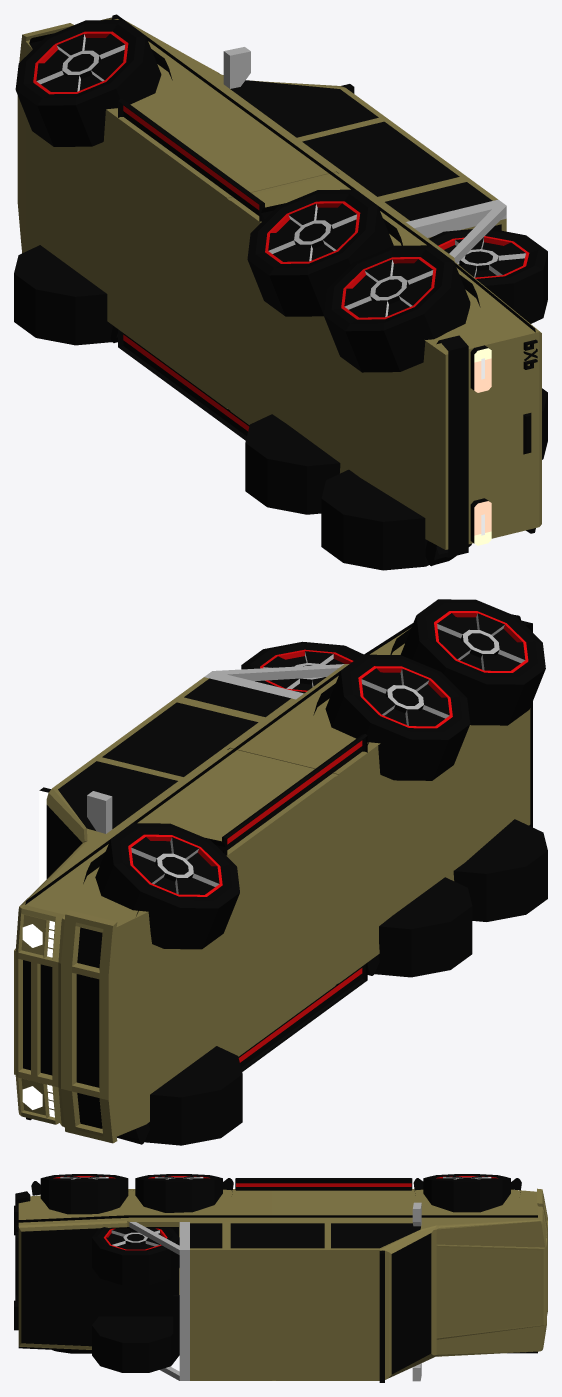
File: 6x6 knocked over.glb
The picture shows the model from 3 angles, top to bottom: view 1: azimuth 30°, elevation 25°; view 2: azimuth 150°, elevation 25°; view 3: azimuth 270°, elevation 25°; orthographic projection. The views are drawn at different scales.
Parts seen in each view (by area): view 1: Plane.025; view 2: Plane.025; view 3: Plane.025.
Boxes of the visible parts, <box> form: Plane.025: <box>14,14,547,570</box>; Plane.025: <box>14,599,547,1145</box>; Plane.025: <box>14,1174,547,1382</box>.
Bounding box in the file's own units: 4.7 × 4.96 × 13.49.
